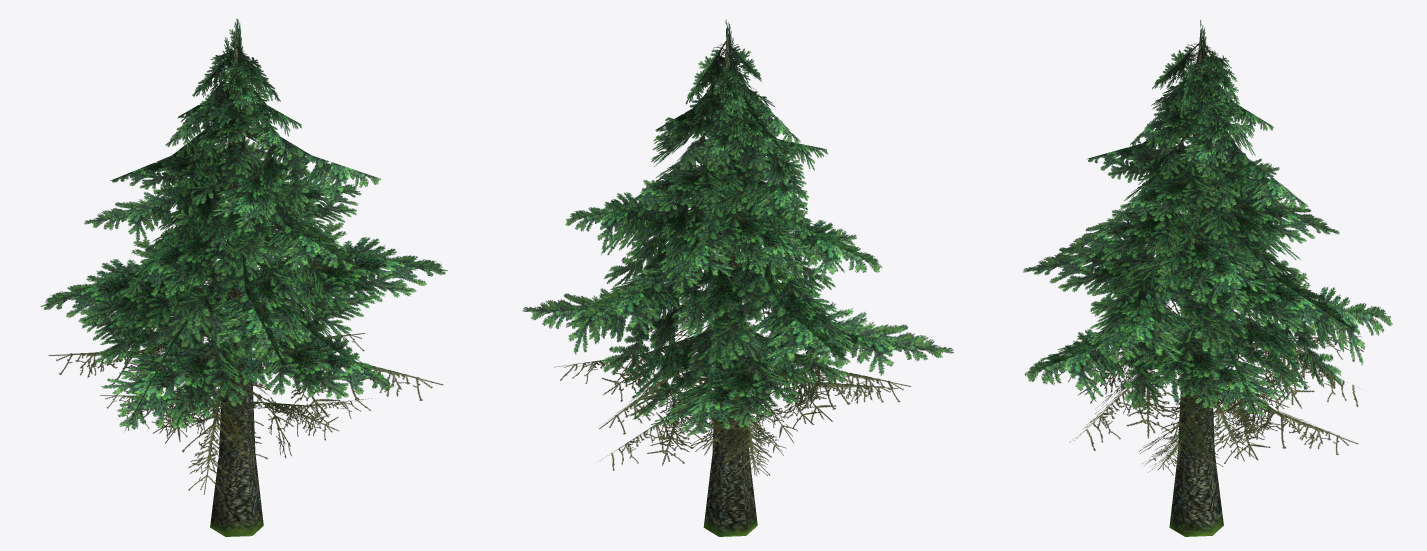
File: tree4_4.glb
3 views of the same model, side by side, from view 1: azimuth 30°, elevation 25°; view 2: azimuth 150°, elevation 25°; view 3: azimuth 270°, elevation 25° (orthographic).
Visible parts, largest first — view 1: tree4_4-col; view 2: tree4_4-col; view 3: tree4_4-col.
Part boxes in pixels (left/top/right/bottom): tree4_4-col: left=40, top=18, right=447, bottom=536; tree4_4-col: left=522, top=19, right=953, bottom=536; tree4_4-col: left=1023, top=19, right=1392, bottom=536.
Size of the model in its own units: 8.84 by 11.58 by 8.38.
Materials: 3 (3 with a texture image).
